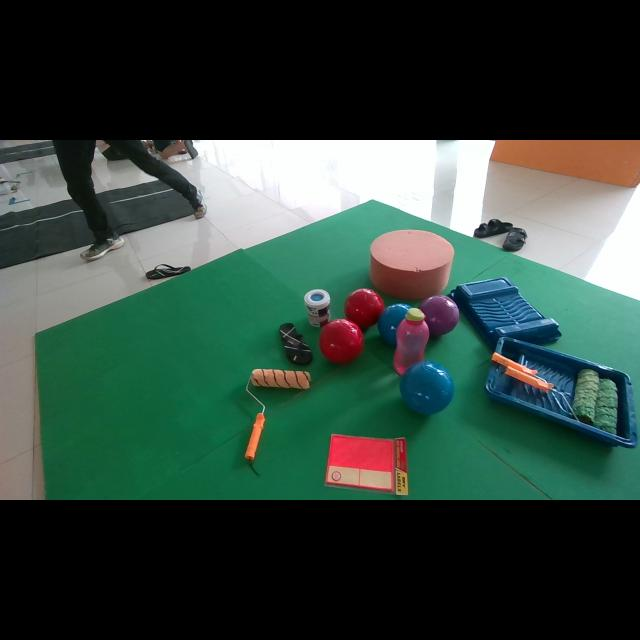B: (400, 361, 454, 415), (419, 295, 460, 336), (378, 302, 411, 346)
R: (319, 319, 364, 364), (344, 289, 385, 330)
